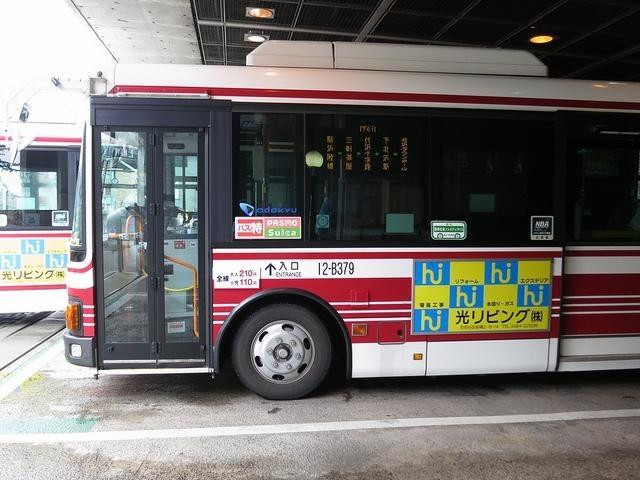bus: (57, 38, 640, 400), (0, 125, 81, 316)
